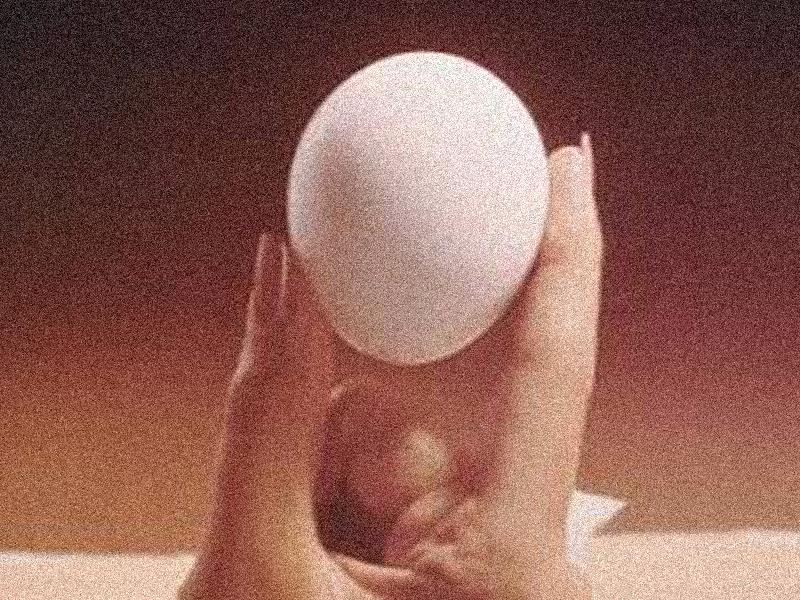Eggs: (282, 53, 549, 369)
